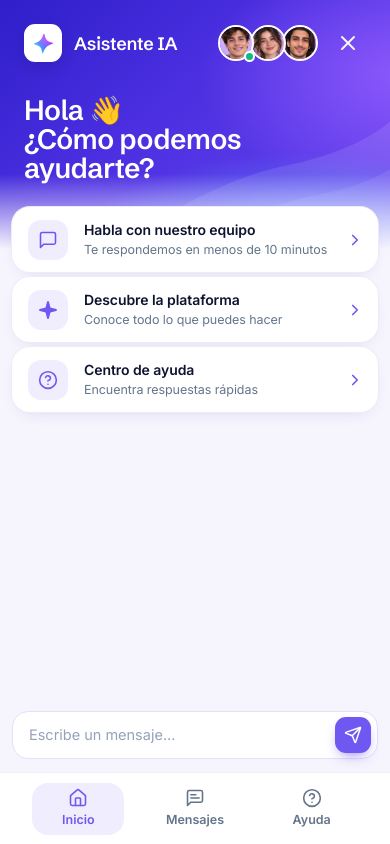
Inicio — como la captura del dueño › escribir en Inicio abre la conversación con el Asistente IA y ese mensaje
Type "¿Cuánto cuesta?" into the field with placeholder "Escribe un mensaje...". click: (178, 735)
box: [29, 724, 327, 746]
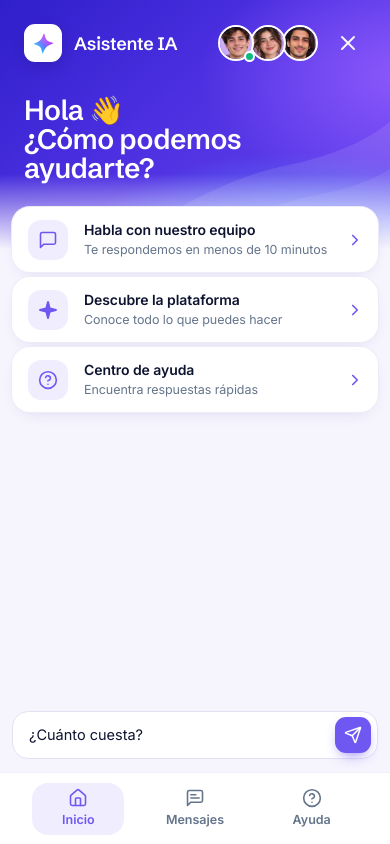
Click the button named "Enviar". click: (353, 735)
box: [335, 717, 371, 753]
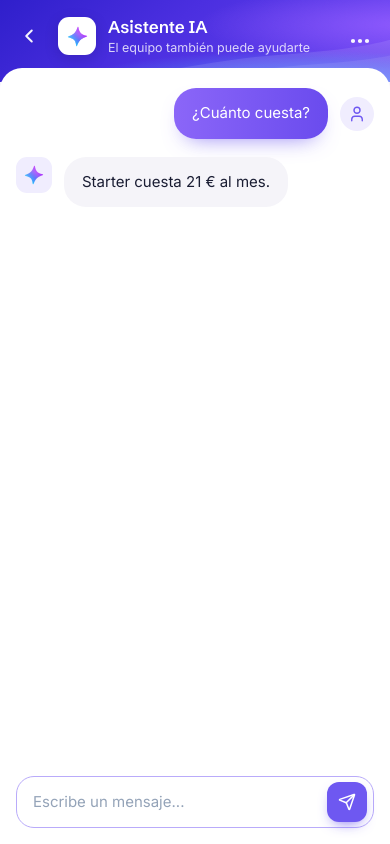
Check: the text "Starter cuesta 21 € al mes." is shown, box [82, 171, 270, 193]
Check: the text "El equipo también puede ayudarte" is shown, box [108, 39, 342, 56]
# La flecha vuelve a Inicio.
Click the button named "Volver al inicio". click: (29, 36)
box: [12, 19, 46, 53]
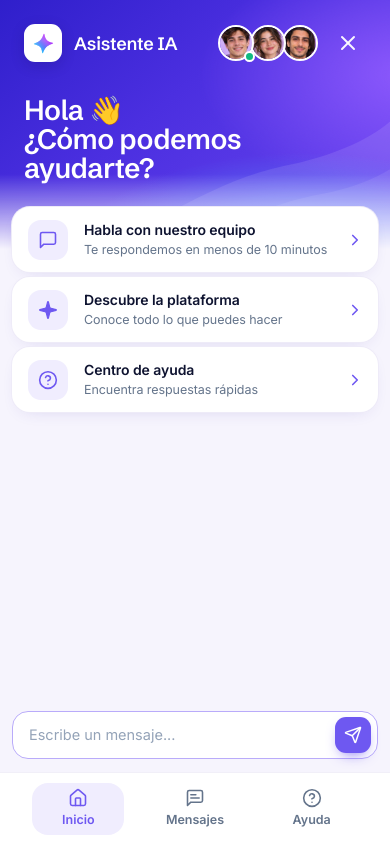
Check: the heading "Hola 👋 ¿Cómo podemos ayudarte?" is shown, box [24, 93, 241, 185]
